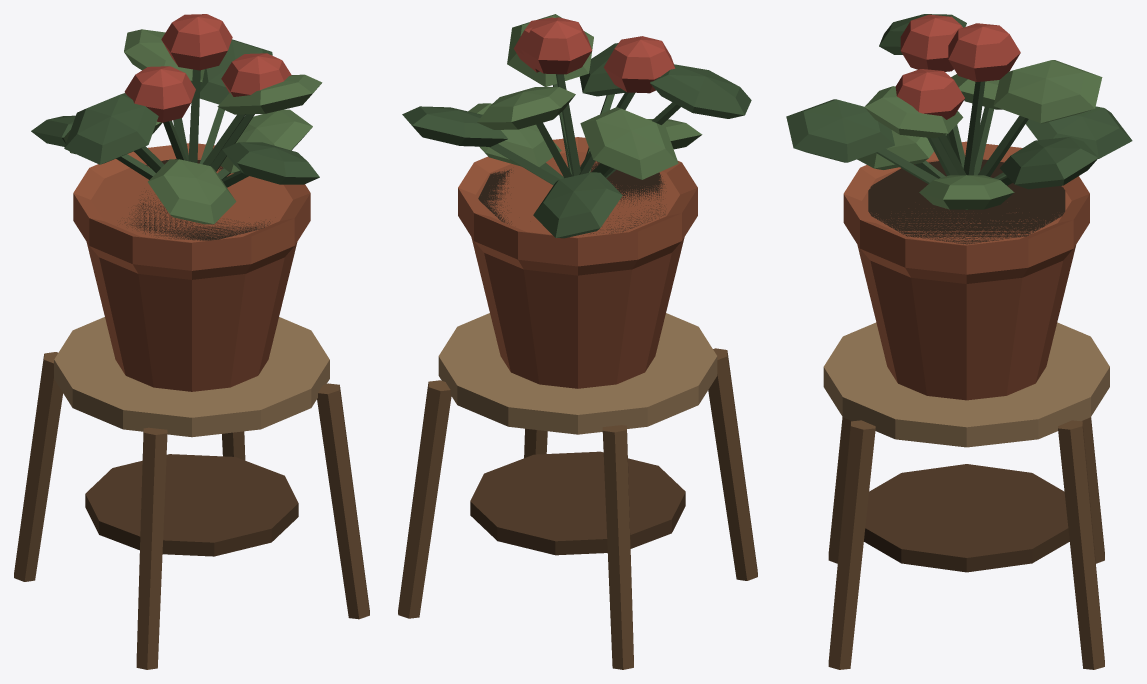
Rendered from prop_plant.glb.
3 renders of one model, left to right at view 1: azimuth 30°, elevation 25°; view 2: azimuth 150°, elevation 25°; view 3: azimuth 270°, elevation 25°, orthographic. The views are drawn at different scales.
Visible parts, largest first — view 1: prop_plant; view 2: prop_plant; view 3: prop_plant.
Part boxes in pixels (x1,y1,x2,y2): prop_plant: [14, 14, 369, 669]; prop_plant: [398, 14, 757, 669]; prop_plant: [786, 14, 1132, 669].
Bounding box in the file's own units: 0.4126 × 0.823 × 0.4355.
